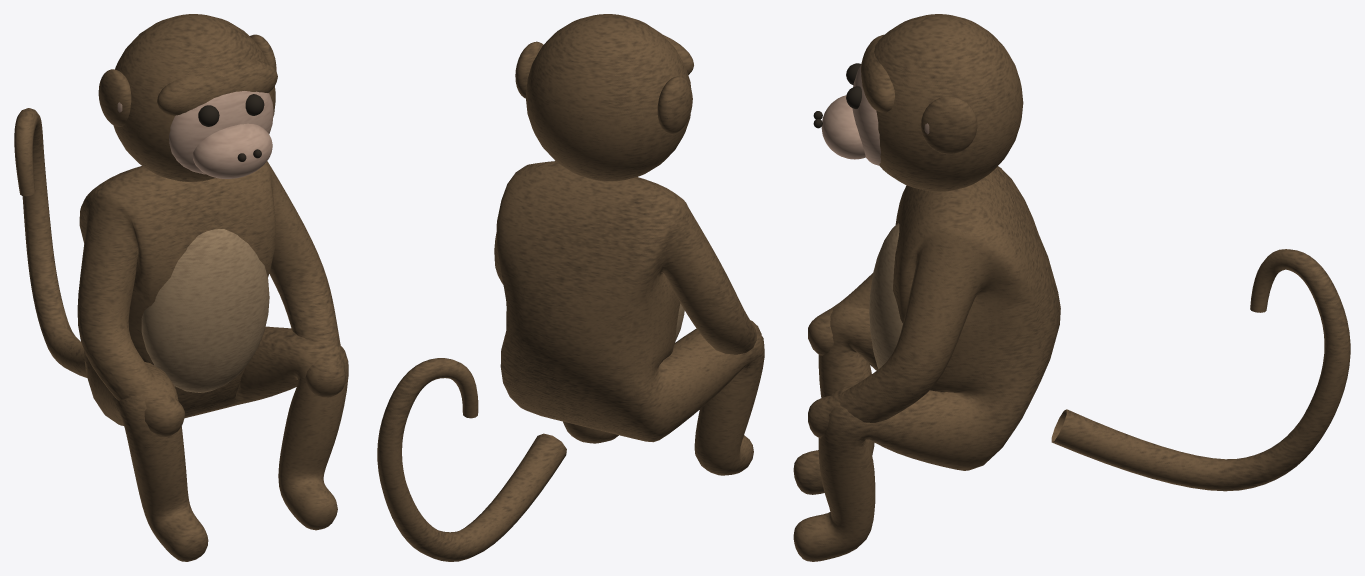
File: monkey_v2.glb
3 renders of one model, left to right at view 1: azimuth 30°, elevation 25°; view 2: azimuth 150°, elevation 25°; view 3: azimuth 270°, elevation 25°, orthographic. The views are drawn at different scales.
Parts seen in each view (by area): view 1: Affe; view 2: Affe; view 3: Affe.
Part boxes in pixels (x1=…): Affe: x1=14, y1=14, x2=348, y2=561; Affe: x1=377, y1=14, x2=764, y2=561; Affe: x1=793, y1=14, x2=1350, y2=561.
Size of the model in its own units: 0.5608 by 1.06 by 1.06.
Materials: 1 (1 with a texture image).
